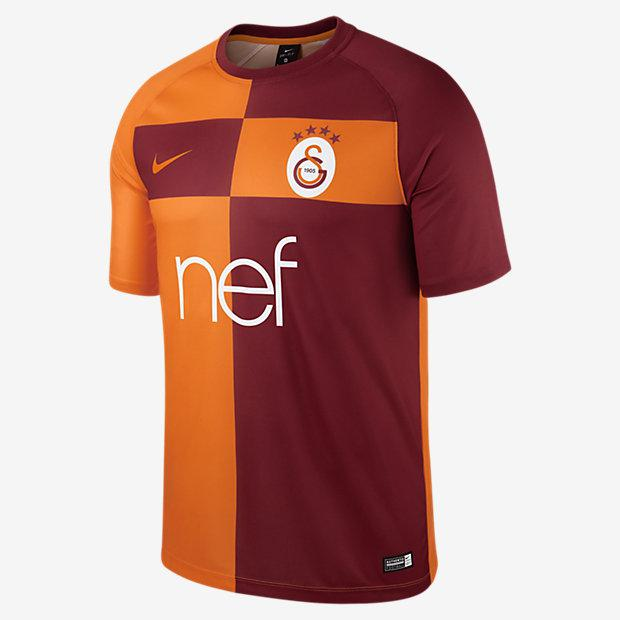teeshirt: (87, 14, 523, 620)
